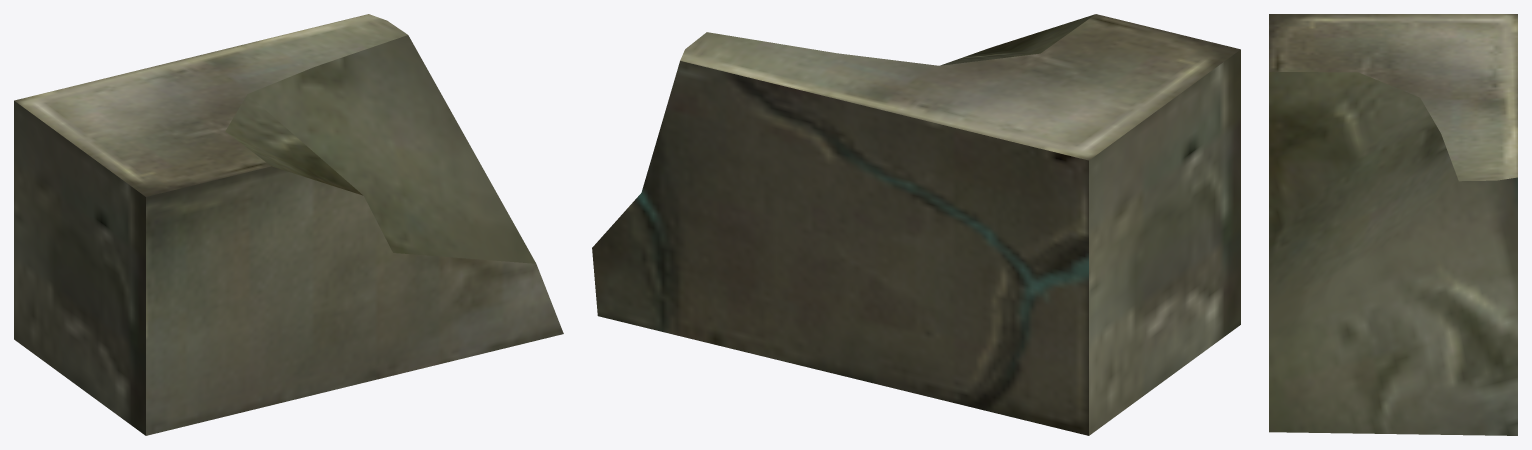
File: wujian008.fbx
3 renders of one model, left to right at view 1: azimuth 30°, elevation 25°; view 2: azimuth 150°, elevation 25°; view 3: azimuth 270°, elevation 25°, orthographic. The views are drawn at different scales.
Visible parts, largest first — view 1: wujian008; view 2: wujian008; view 3: wujian008.
Part boxes in pixels (box(x1,y1,x2,y2)): wujian008: box(14, 14, 563, 435); wujian008: box(592, 14, 1240, 435); wujian008: box(1269, 14, 1517, 435).
Bounding box in the file's own units: 58.41 × 30.93 × 30.93.
